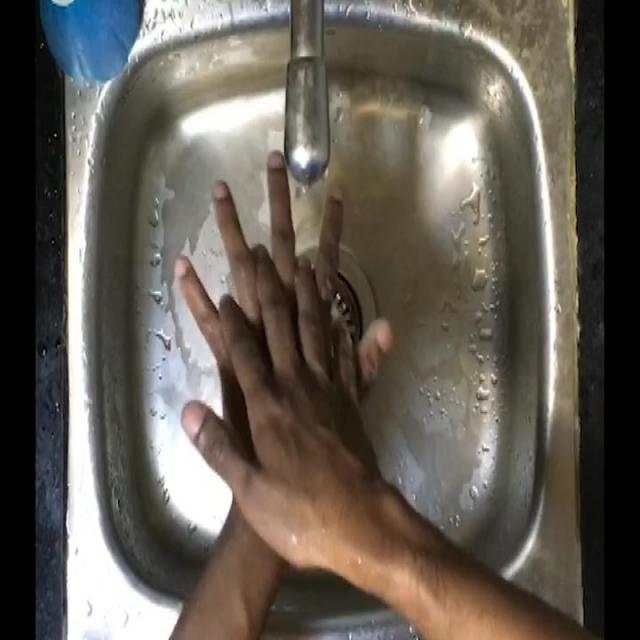step_2: (165, 140, 400, 485)
